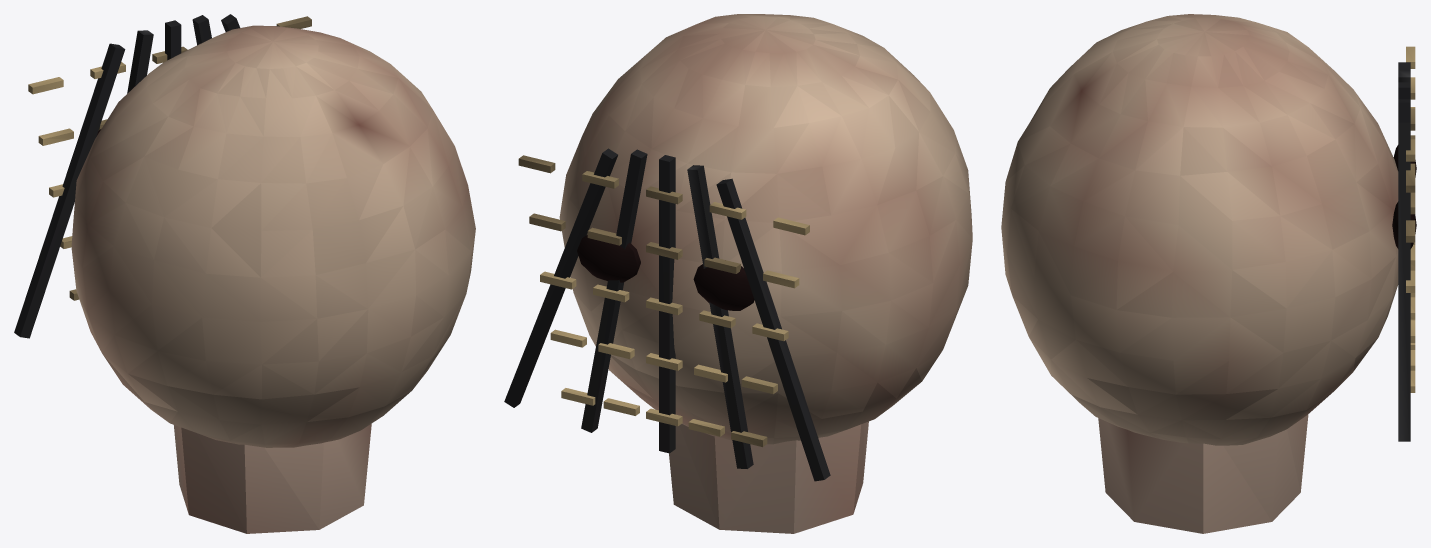
Rendered from BrotherHead.glb.
3 views of the same model, side by side, from view 1: azimuth 30°, elevation 25°; view 2: azimuth 150°, elevation 25°; view 3: azimuth 270°, elevation 25° (orthographic). The views are drawn at different scales.
Parts seen in each view (by area): view 1: BrotherHead_leather, BrotherHead_skinBrother, BrotherHead_metal_dark, BrotherHead_rope; view 2: BrotherHead_leather, BrotherHead_metal_dark, BrotherHead_skinBrother, BrotherHead_rope, BrotherHead_maw; view 3: BrotherHead_leather, BrotherHead_skinBrother, BrotherHead_metal_dark, BrotherHead_rope.
Boxes of the visible parts, x1,y1,x2,y2 form: BrotherHead_leather: [71, 25, 475, 447]; BrotherHead_skinBrother: [174, 424, 371, 533]; BrotherHead_metal_dark: [14, 14, 240, 338]; BrotherHead_rope: [28, 16, 311, 300]; BrotherHead_leather: [559, 14, 972, 444]; BrotherHead_metal_dark: [504, 148, 830, 481]; BrotherHead_skinBrother: [669, 421, 868, 533]; BrotherHead_rope: [518, 155, 809, 447]; BrotherHead_maw: [577, 235, 754, 310]; BrotherHead_leather: [1001, 14, 1398, 445]; BrotherHead_skinBrother: [1098, 414, 1308, 533]; BrotherHead_metal_dark: [1398, 62, 1410, 441]; BrotherHead_rope: [1406, 46, 1415, 392].
Size of the model in its own units: 1.36 by 1.67 by 1.36.
